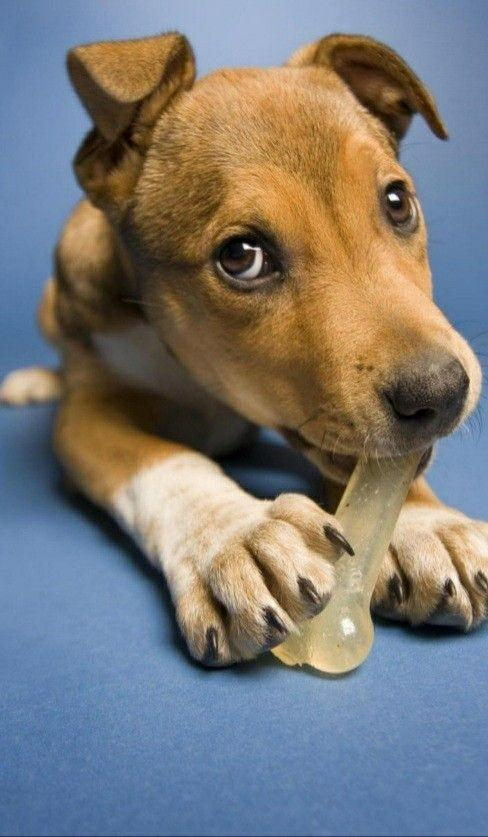puppy-dog: (2, 31, 488, 673)
